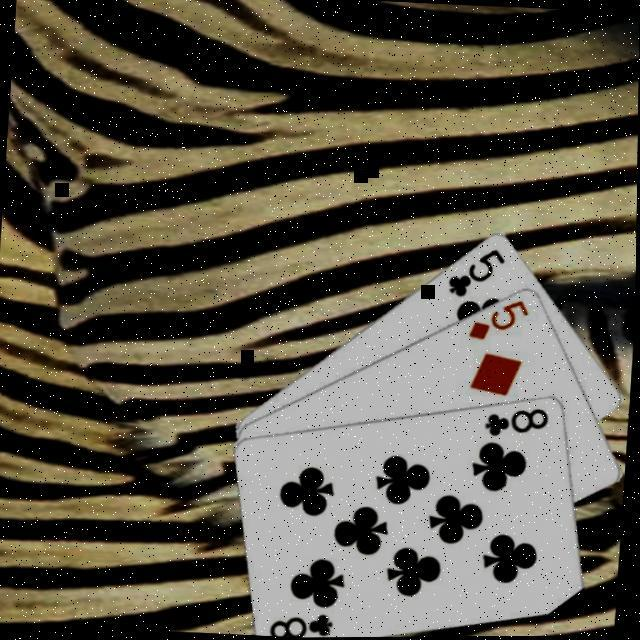5C: (443, 244, 508, 303)
5D: (465, 295, 533, 346)
8C: (481, 402, 552, 443), (267, 609, 337, 638)
